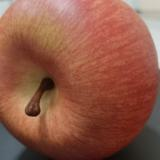apple: (1, 1, 160, 160)
